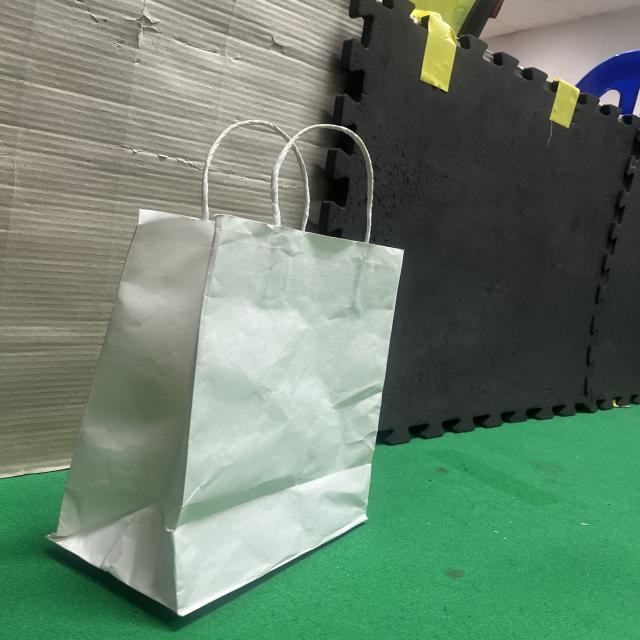paper bag: (14, 102, 437, 640)
